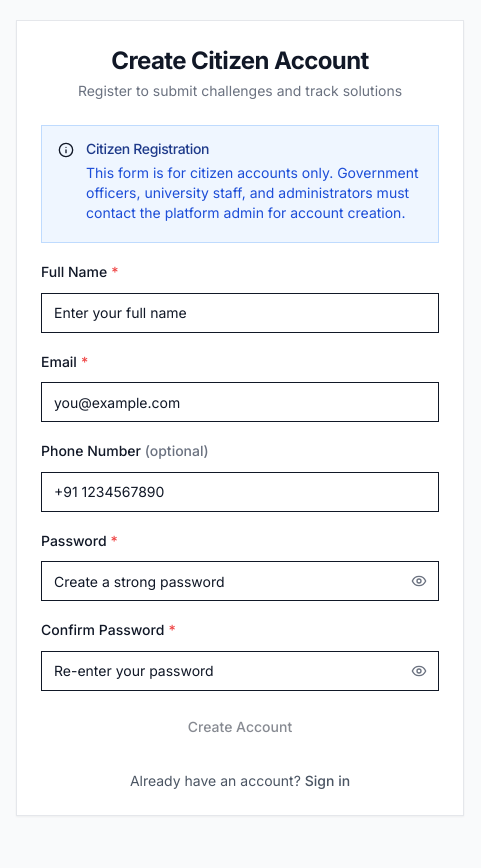
Test: RegisterPage › Client-side Validation › should validate required name field
Enable button by entering valid password
Type "Password123!" into the password field with placeholder "Create a strong password" at {"x": 240, "y": 581}, box [41,561,439,601]
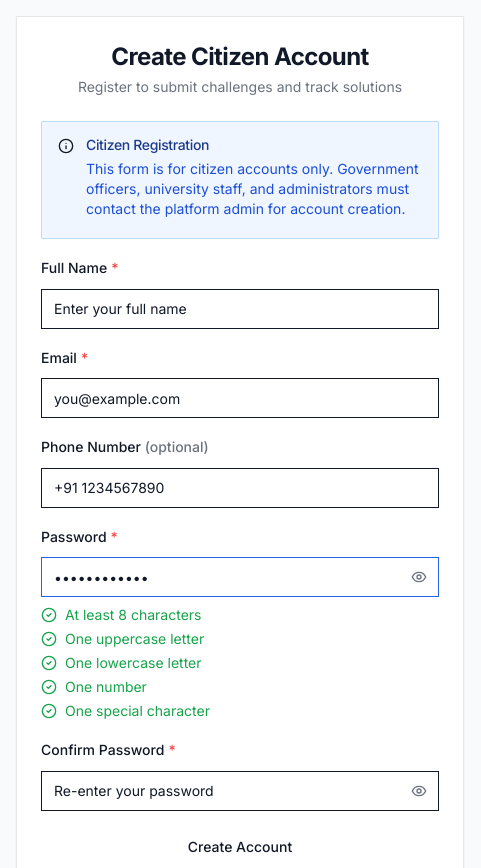
Click the button "Create Account" at {"x": 240, "y": 847}, box [41,827,439,867]
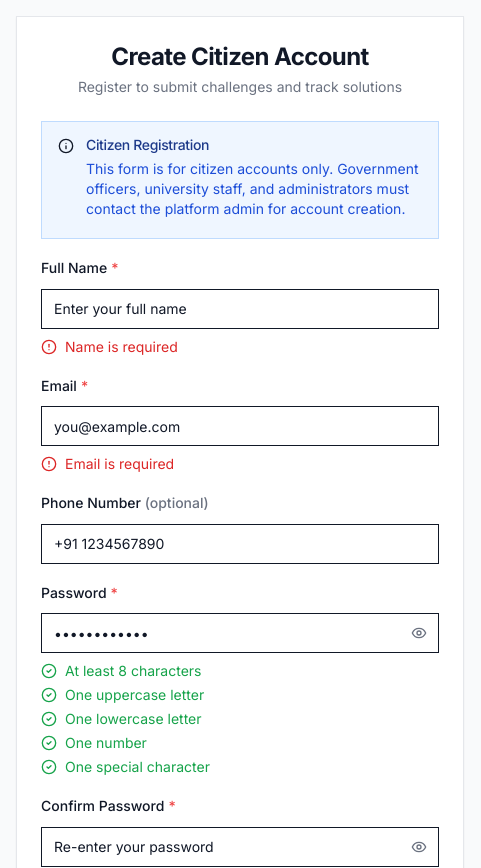
Now the text "Name is required" is shown, box [65,337,178,357]
